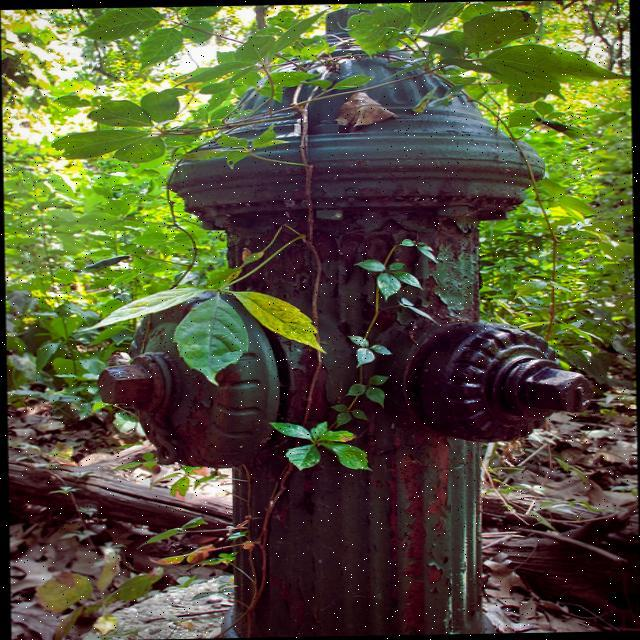fire_hydrant: (88, 1, 590, 586)
